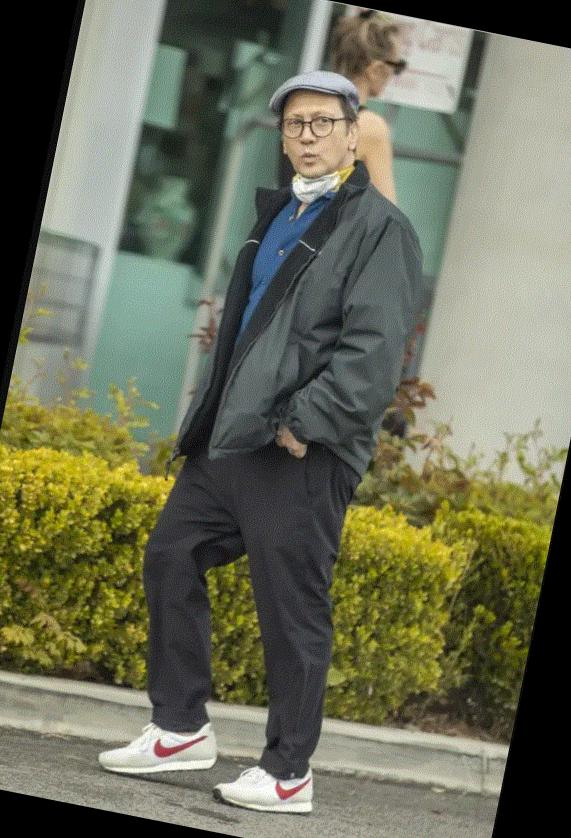mask_weared_incorrect: (271, 102, 359, 195)
